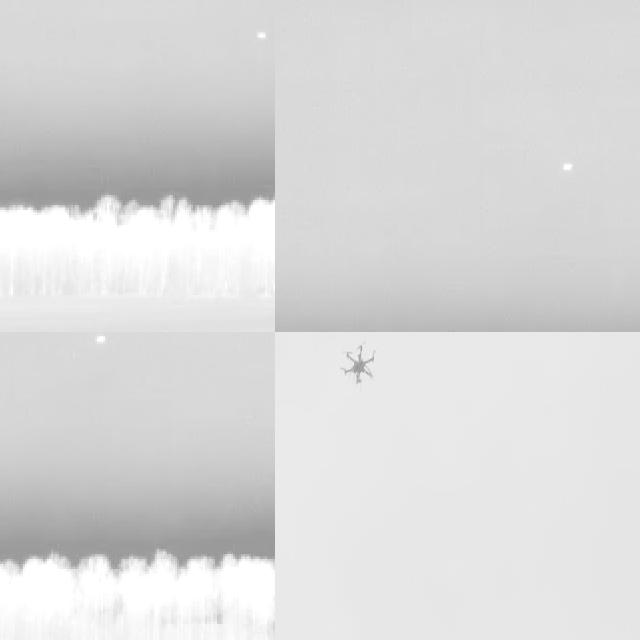1: (558, 157, 584, 182), (252, 21, 275, 48), (89, 332, 117, 353)
drone: (336, 339, 378, 393)
